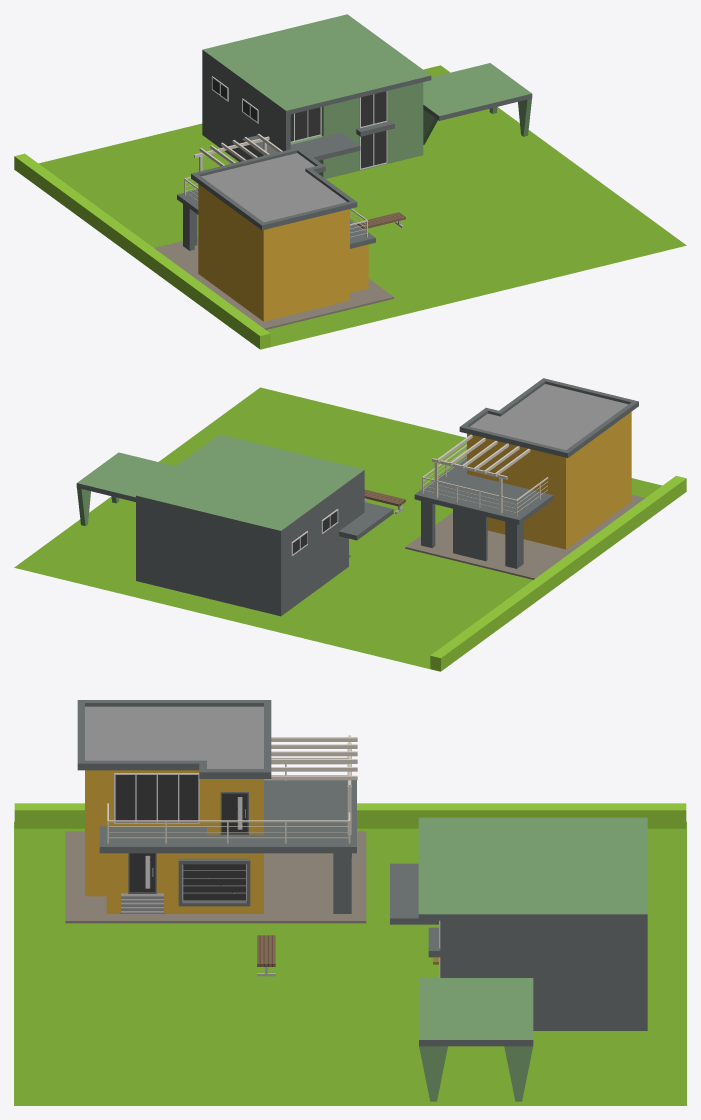
Rendered from remix-residential-garden.glb.
The picture shows the model from 3 angles, top to bottom: view 1: azimuth 30°, elevation 25°; view 2: azimuth 150°, elevation 25°; view 3: azimuth 270°, elevation 25°; orthographic projection. The views are drawn at different scales.
Parts seen in each view (by area): view 1: Natures_Grass Tile_Plane.010, Building_House_04_color01_Cube.099, Building_House_01_color01_Cube.024, Natures_Grass Fence_Cube.2536; view 2: Natures_Grass Tile_Plane.010, Building_House_04_color01_Cube.099, Building_House_01_color01_Cube.024, Natures_Grass Fence_Cube.2536; view 3: Natures_Grass Tile_Plane.010, Building_House_01_color01_Cube.024, Building_House_04_color01_Cube.099, Natures_Grass Fence_Cube.2536, Props_Bench_1_Cube.023.
Boxes of the visible parts, x1,y1,x2,y2 form: Natures_Grass Tile_Plane.010: (38, 65, 686, 349); Building_House_04_color01_Cube.099: (202, 14, 532, 178); Building_House_01_color01_Cube.024: (154, 134, 393, 329); Natures_Grass Fence_Cube.2536: (14, 153, 270, 349); Natures_Grass Tile_Plane.010: (14, 387, 662, 671); Building_House_04_color01_Cube.099: (76, 434, 393, 616); Building_House_01_color01_Cube.024: (405, 378, 644, 579); Natures_Grass Fence_Cube.2536: (430, 476, 686, 671); Natures_Grass Tile_Plane.010: (14, 821, 686, 1105); Building_House_01_color01_Cube.024: (65, 700, 366, 923); Building_House_04_color01_Cube.099: (390, 817, 647, 1101); Natures_Grass Fence_Cube.2536: (14, 803, 686, 828); Props_Bench_1_Cube.023: (257, 935, 275, 976).
Bounding box in the file's own units: 40 × 9.05 × 40.
Materials: 4 (4 with a texture image).
